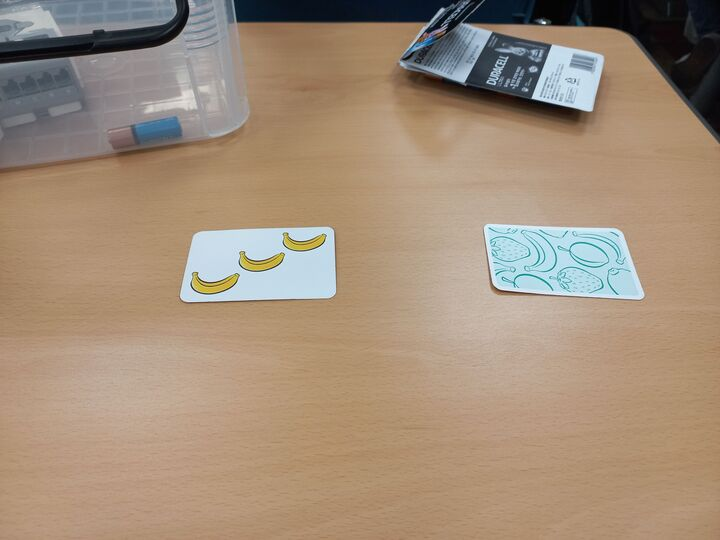banana3: (180, 225, 340, 306)
